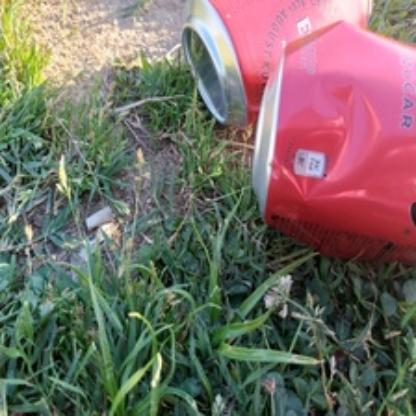Can: (252, 20, 416, 262), (182, 0, 366, 128)
